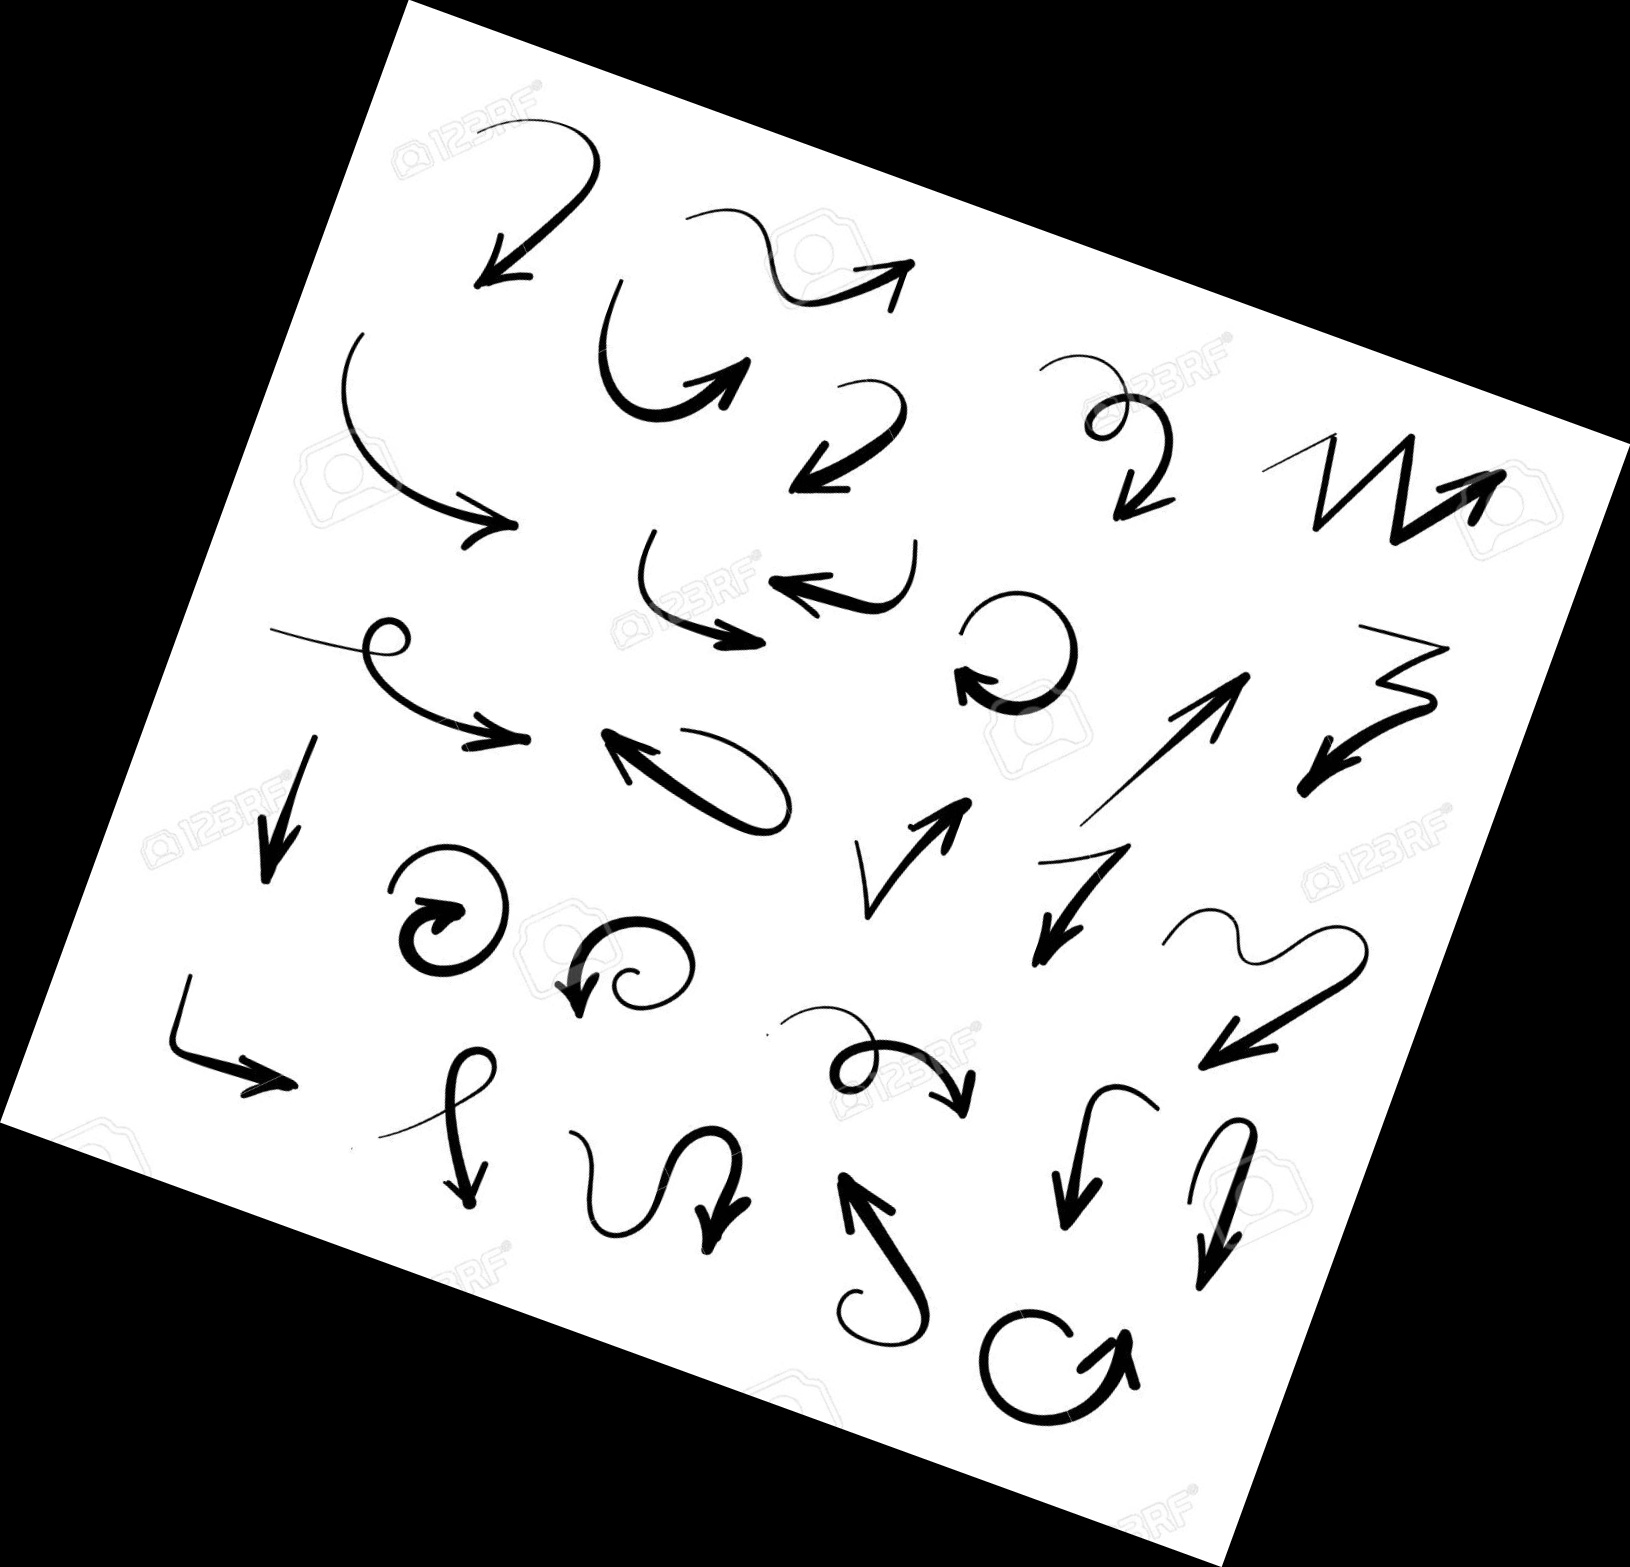arrow: (1193, 992, 1337, 1077), (1158, 662, 1252, 789), (403, 468, 524, 563), (1295, 700, 1402, 805), (830, 1165, 918, 1283), (806, 247, 930, 330), (784, 420, 902, 503), (653, 349, 763, 436), (888, 794, 978, 895), (255, 765, 325, 895), (196, 1034, 309, 1115), (595, 714, 688, 810), (1041, 1125, 1112, 1245), (469, 204, 559, 295), (1418, 463, 1512, 550), (899, 1032, 982, 1128), (770, 563, 891, 629), (426, 695, 537, 765), (947, 652, 1058, 722), (1108, 442, 1195, 530), (1188, 1183, 1253, 1299), (1030, 879, 1106, 976), (1078, 1323, 1142, 1432), (426, 1128, 498, 1221), (693, 1163, 761, 1259), (549, 918, 608, 1026), (664, 602, 771, 662), (391, 893, 469, 966)
